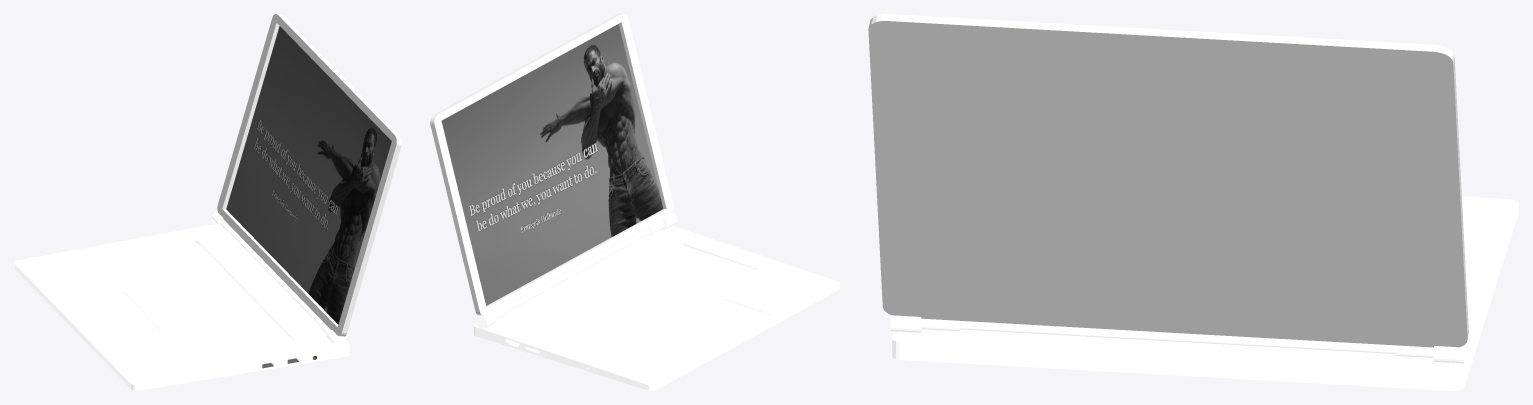
Rendered from pcportable.gltf.
The picture shows the model from 3 angles, left to right: view 1: azimuth 30°, elevation 25°; view 2: azimuth 150°, elevation 25°; view 3: azimuth 270°, elevation 25°; orthographic projection. The views are drawn at different scales.
Parts seen in each view (by area): view 1: Ecran; view 2: Ecran; view 3: Ecran.
Boxes of the visible parts, box(x1,y1,x2,y2) form: Ecran: box(14, 14, 401, 390); Ecran: box(430, 14, 839, 390); Ecran: box(868, 14, 1518, 390).
Size of the model in its own units: 3.11 by 2.22 by 3.41.
Materials: 9 (1 with a texture image).
